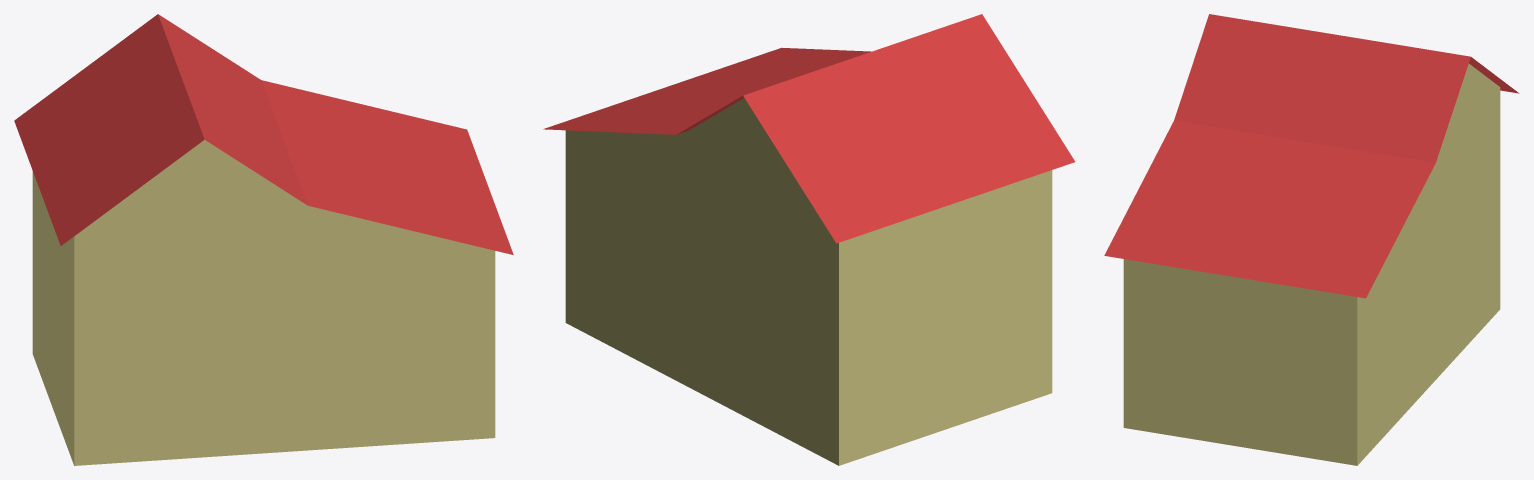
3 renders of one model, left to right at view 1: azimuth 30°, elevation 25°; view 2: azimuth 150°, elevation 25°; view 3: azimuth 270°, elevation 25°, orthographic. The views are drawn at different scales.
Bounding box in the file's own units: 16.59 × 13.8 × 11.08.
